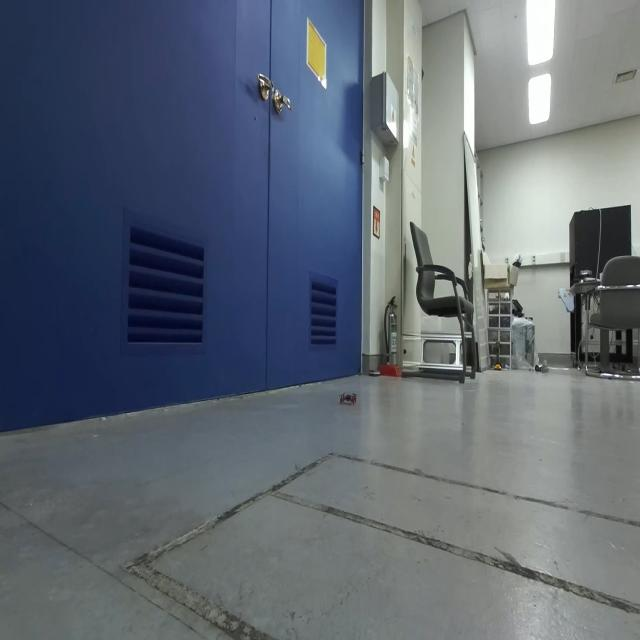crazyflie: (337, 385, 360, 408)
